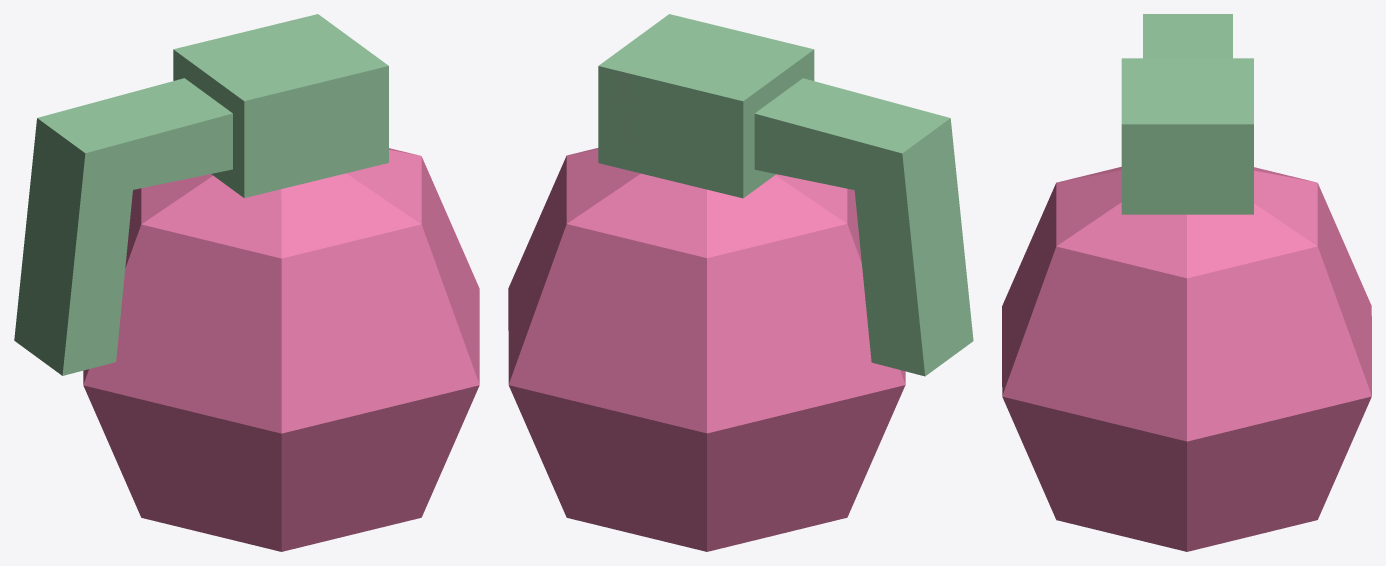
Rendered from granada.fbx.
3 views of the same model, side by side, from view 1: azimuth 30°, elevation 25°; view 2: azimuth 150°, elevation 25°; view 3: azimuth 270°, elevation 25° (orthographic). The views are drawn at different scales.
Parts seen in each view (by area): view 1: Sphere; view 2: Sphere; view 3: Sphere.
Boxes of the visible parts, x1,y1,x2,y2 form: Sphere: (14, 14, 479, 551); Sphere: (508, 14, 973, 551); Sphere: (1002, 14, 1371, 551).
Bounding box in the file's own units: 99.78 × 105 × 77.76.
Materials: 1 (1 with a texture image).
